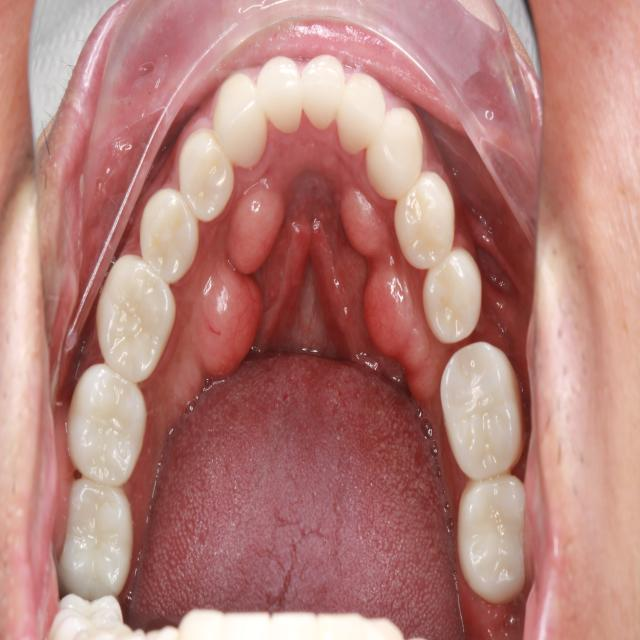tooth: (434, 324, 529, 491), (62, 354, 154, 497), (454, 465, 532, 613), (96, 249, 178, 386), (62, 465, 135, 599), (171, 118, 253, 233), (388, 163, 466, 283), (210, 60, 282, 183), (364, 92, 426, 213), (421, 247, 488, 355), (138, 181, 208, 284), (297, 40, 352, 150), (252, 41, 309, 142), (332, 61, 383, 170)
